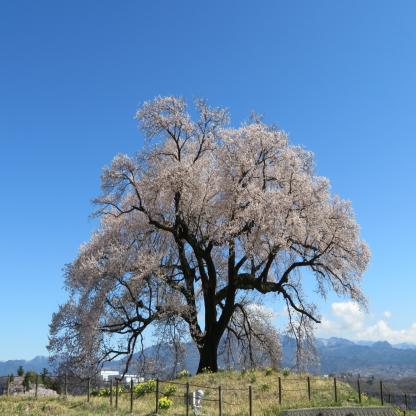EdohiganSakura: (43, 93, 372, 378)
